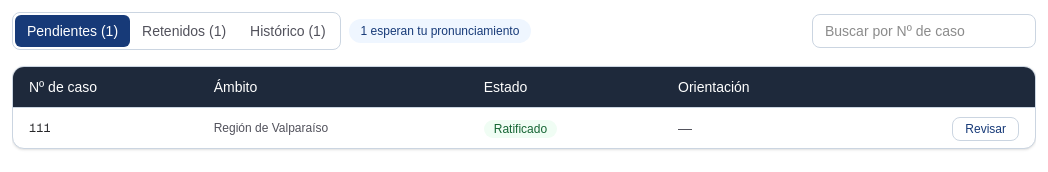
Test: una sola bandeja para todas las pantallas › las tres pestañas salen de la misma lista, sin pedir una por pestaña
This screenshot has width=1048, height=172.
Expected: the text "111" is shown, [13,108,198,148]
Click the button "Histórico (1)" at coordinates (288, 31), box [238,15,338,47]
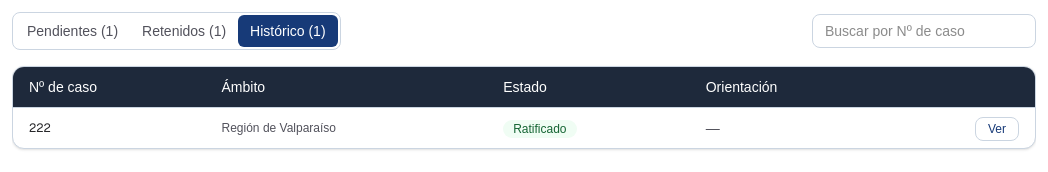
Expected: the text "222" is shown, [13,108,206,148]
Click the button "Retenidos (1)" at coordinates (184, 31), box [130,15,238,47]
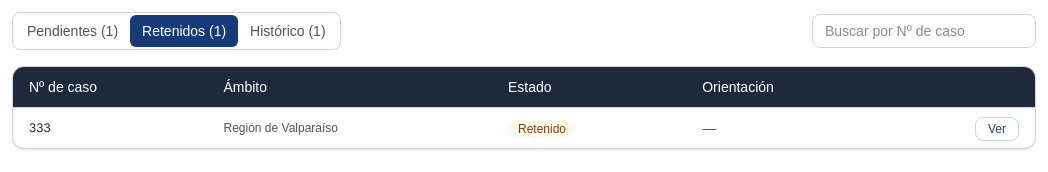
Expected: the text "333" is shown, [13,108,208,148]
